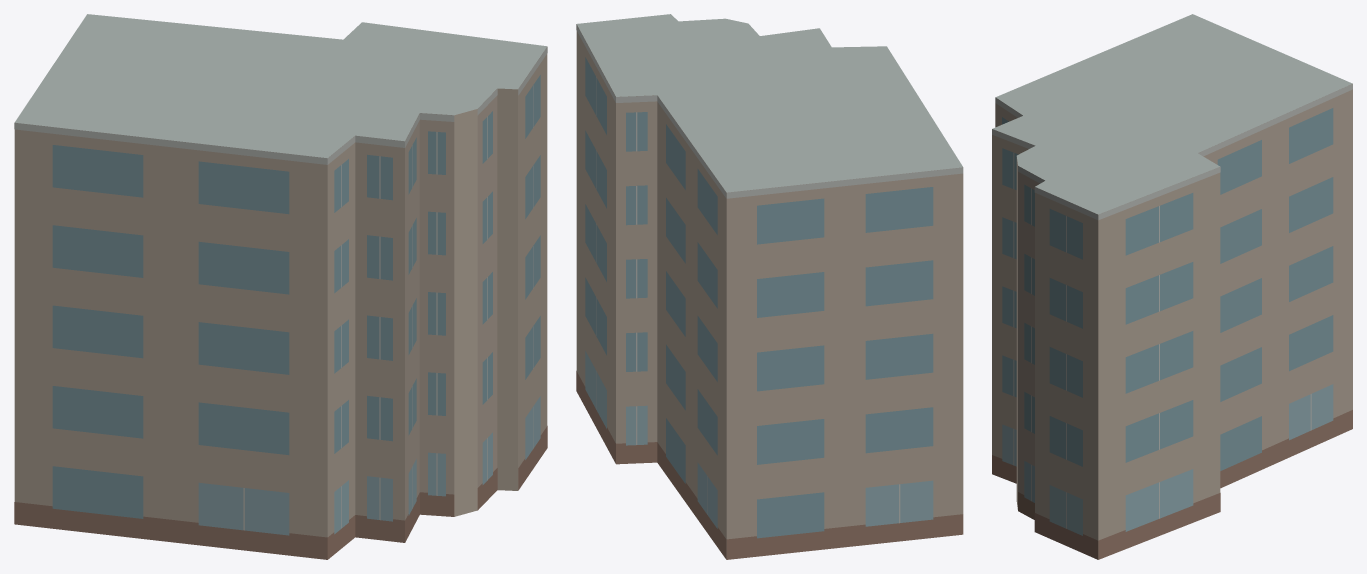
Rendered from survey-upis-32667592.glb.
The picture shows the model from 3 angles, left to right: view 1: azimuth 30°, elevation 25°; view 2: azimuth 150°, elevation 25°; view 3: azimuth 270°, elevation 25°; orthographic projection. The views are drawn at different scales.
Parts seen in each view (by area): view 1: survey-upis-32667592.tmp; view 2: survey-upis-32667592.tmp; view 3: survey-upis-32667592.tmp.
Boxes of the visible parts, x1,y1,x2,y2 form: survey-upis-32667592.tmp: (14, 14, 547, 559); survey-upis-32667592.tmp: (576, 14, 963, 559); survey-upis-32667592.tmp: (992, 14, 1352, 559).
Bounding box in the file's own units: 18.07 × 14.5 × 13.74.
